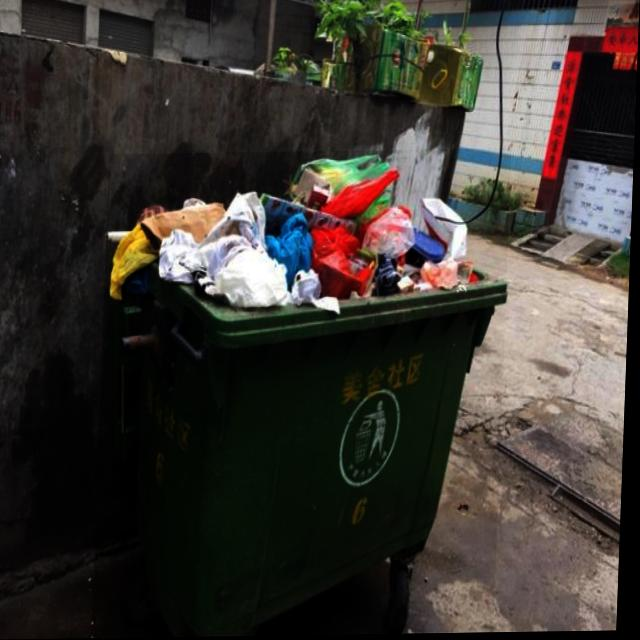overflow: (96, 150, 512, 638)
